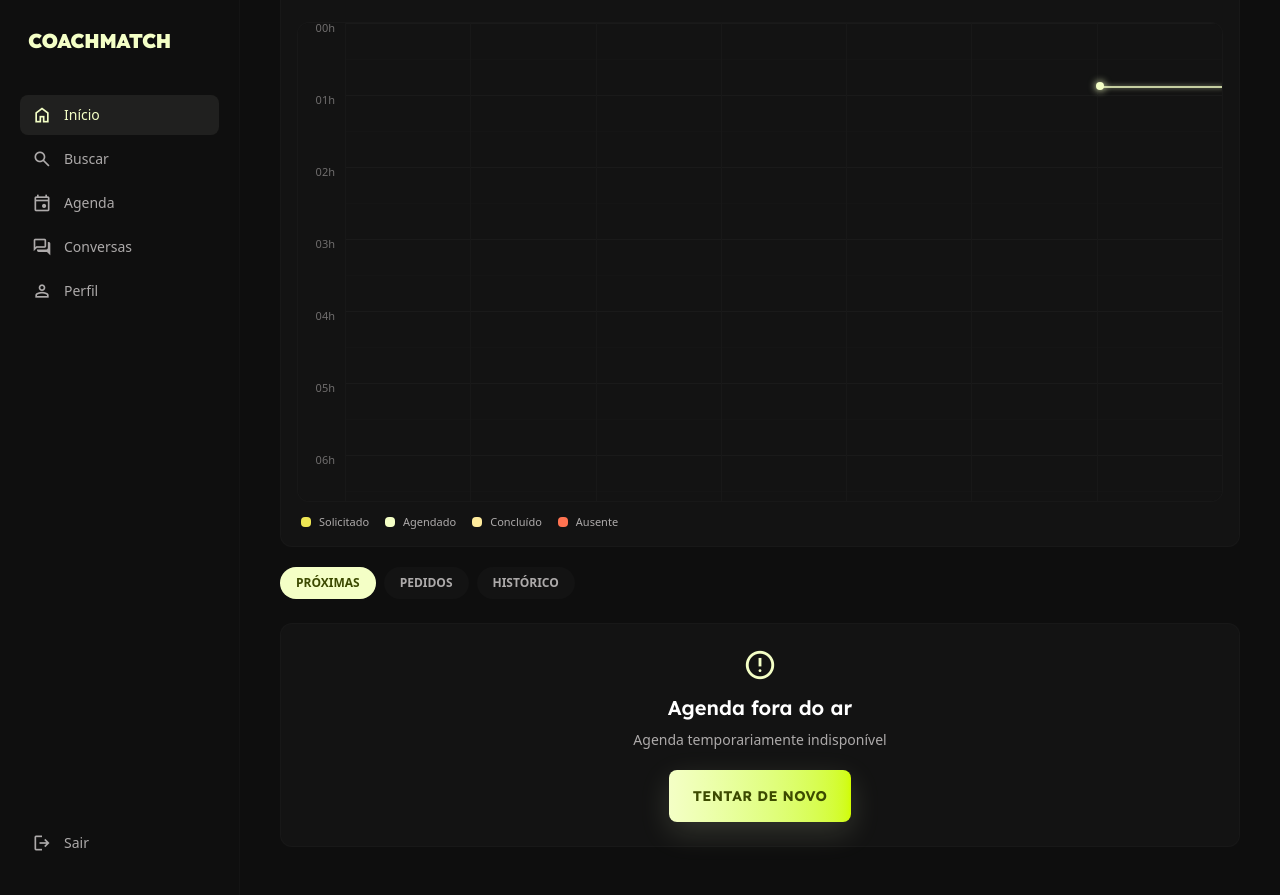
Test case: ClientSchedulePage › mostra erro e recarrega a agenda ao tentar novamente
(page scrolled)
Expected: the heading "Agenda fora do ar" is shown, x1=668 y1=695 x2=852 y2=720
Expected: the text "Agenda temporariamente indisponível" is shown, x1=633 y1=730 x2=887 y2=749
Click the button "TENTAR DE NOVO" at (760, 796), box x1=669 y1=770 x2=851 y2=822
(page scrolled)
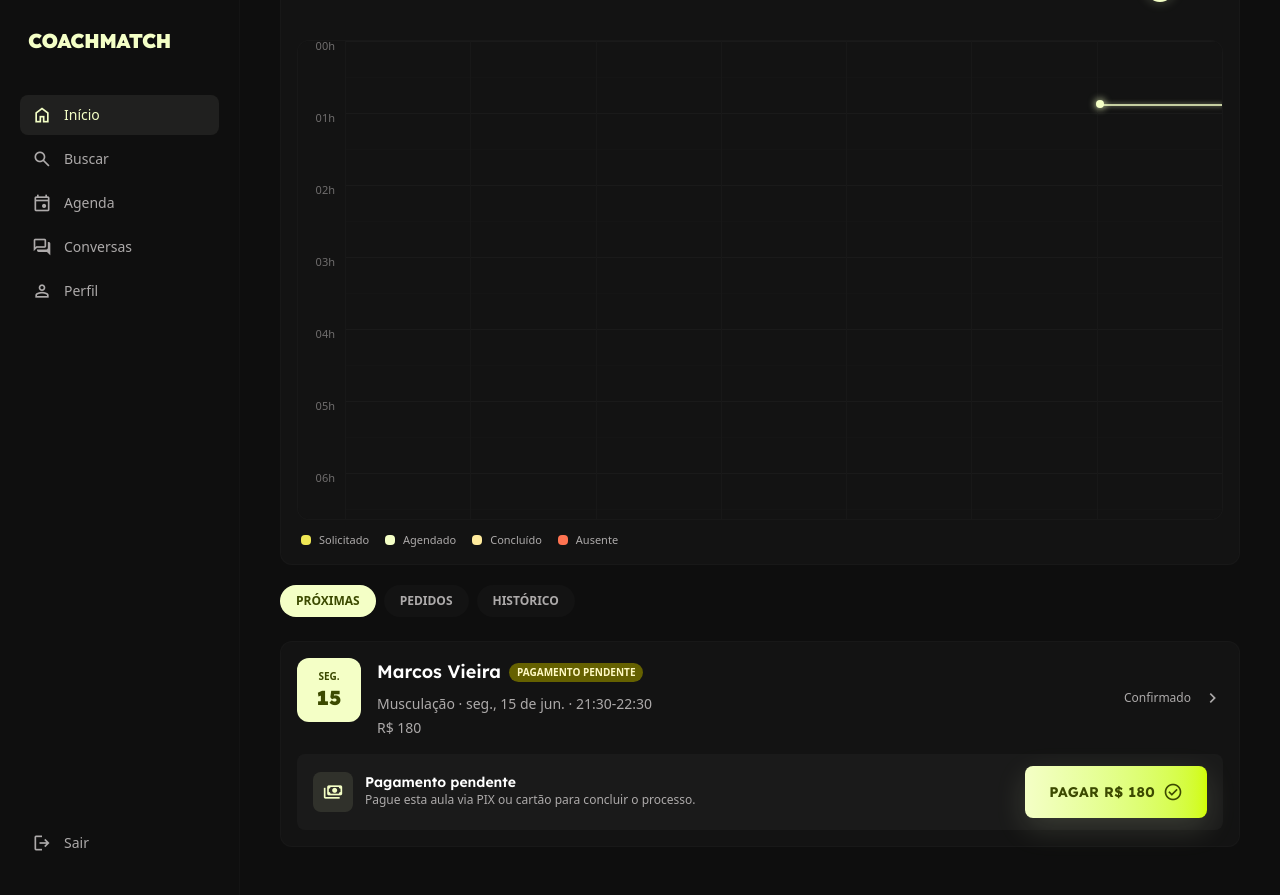
Expected: the heading "Marcos Vieira" is shown, x1=377 y1=658 x2=501 y2=686
